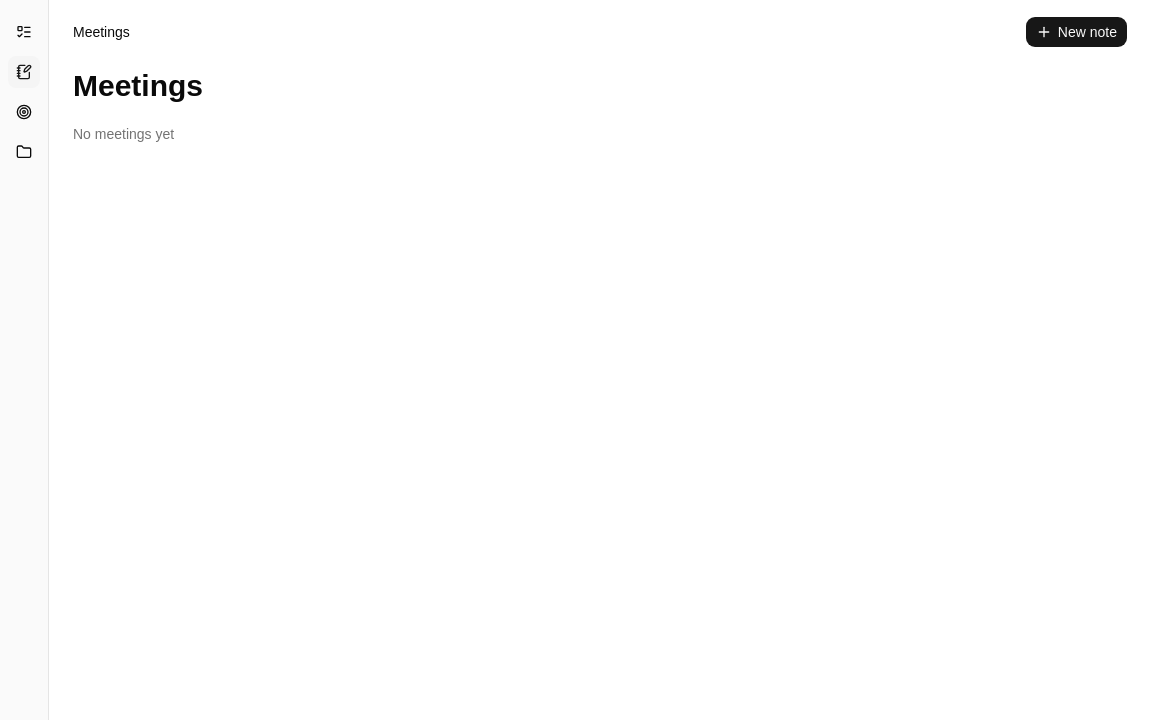
Test: The sheet › closes with the Close button and with Escape, and gives focus back to the card
The width and height of the screenshot is (1152, 720).
Click the 3rd link named "Initiatives": (24, 112) x1=8 y1=96 x2=40 y2=128
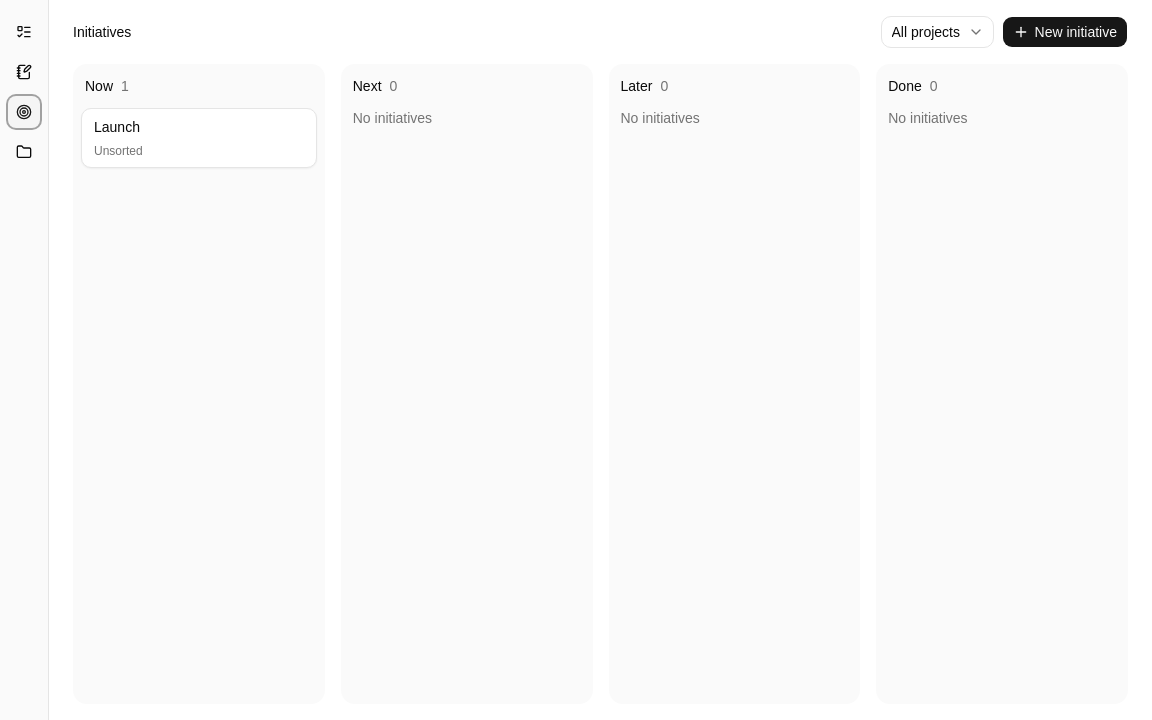
Check: the button "New initiative" is shown, box x1=1002 y1=16 x2=1128 y2=48
Click the button "Launch Unsorted": (199, 138) x1=81 y1=108 x2=317 y2=168
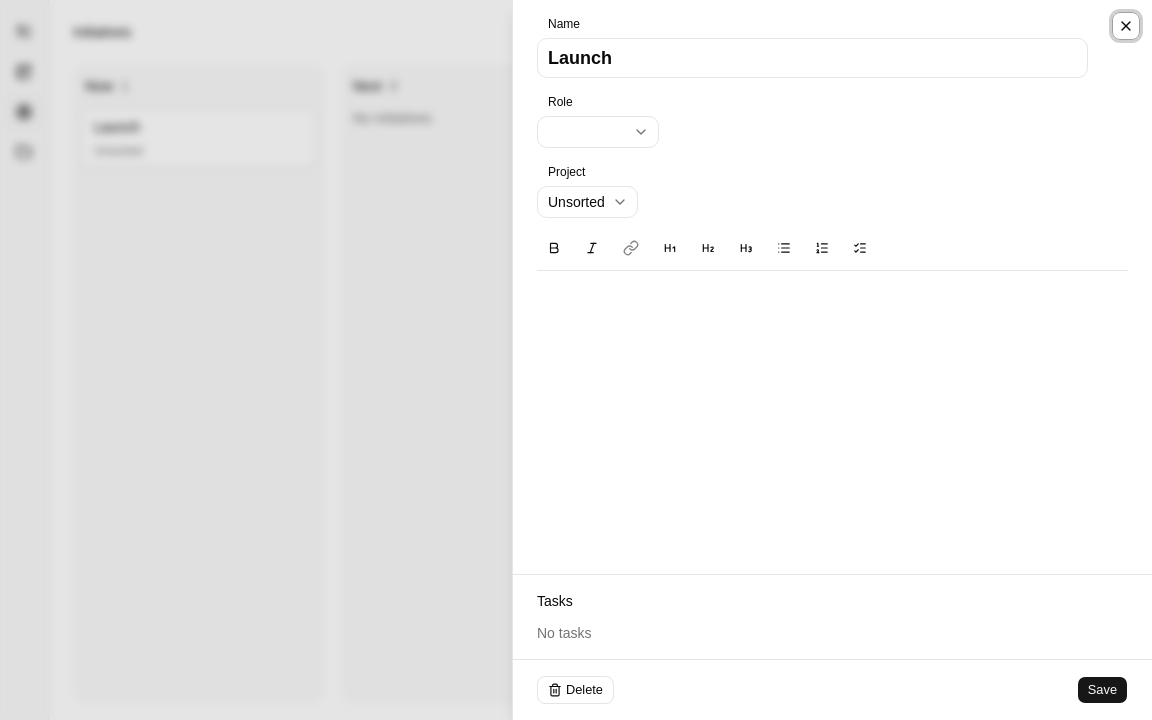
Check: the field named "Initiative name" is enabled, box x1=537 y1=38 x2=1088 y2=78
Click the button named "Close": (1126, 26) x1=1112 y1=12 x2=1140 y2=40
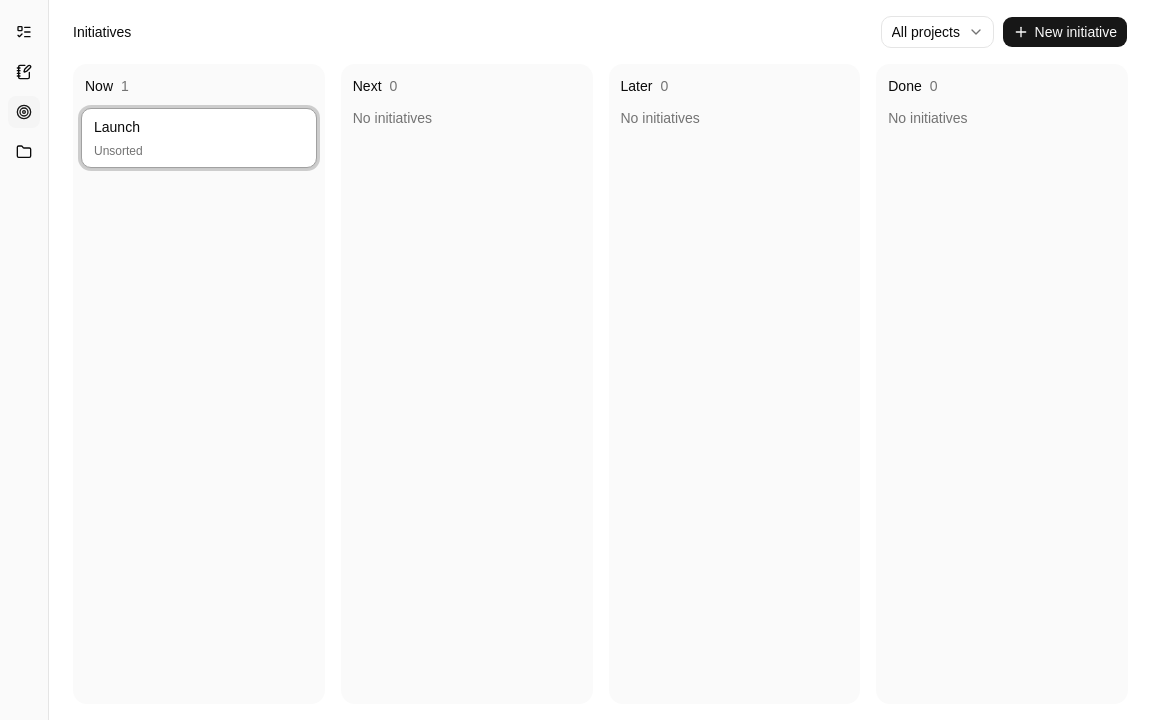
Check: the field labelled "Initiative name" is gone
Click the button "Launch Unsorted": (199, 138) x1=81 y1=108 x2=317 y2=168
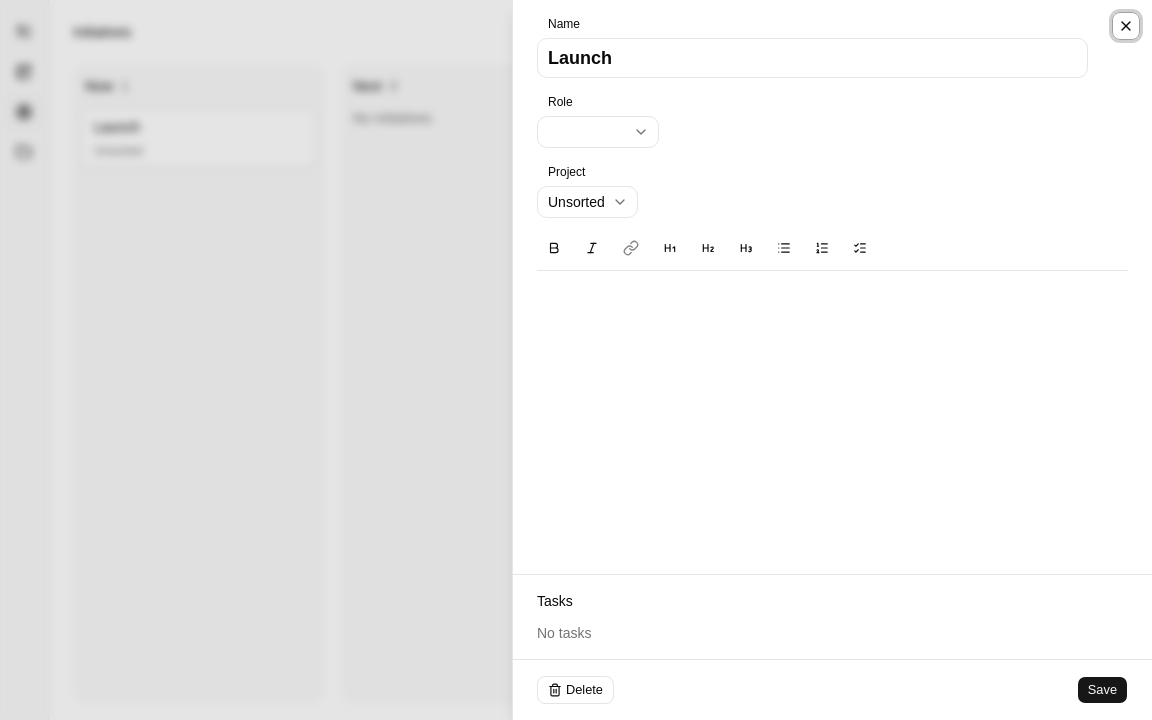
Check: the field named "Initiative name" is enabled, box x1=537 y1=38 x2=1088 y2=78
Press Escape
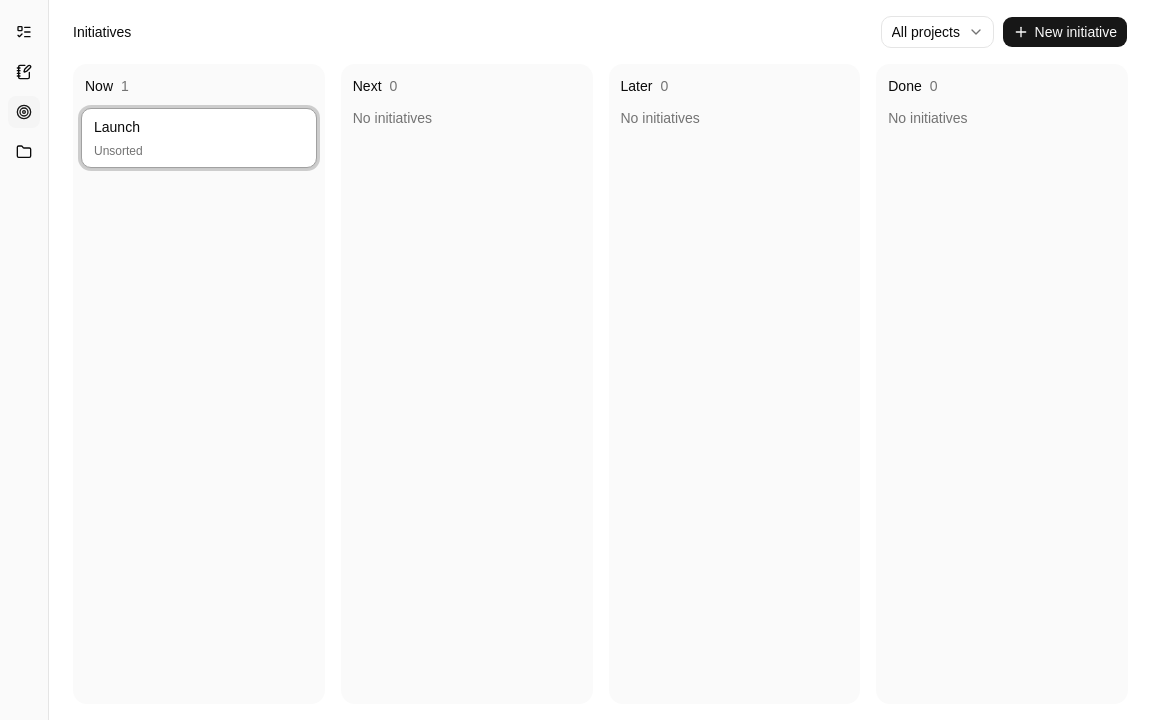
Check: the field labelled "Initiative name" is gone
